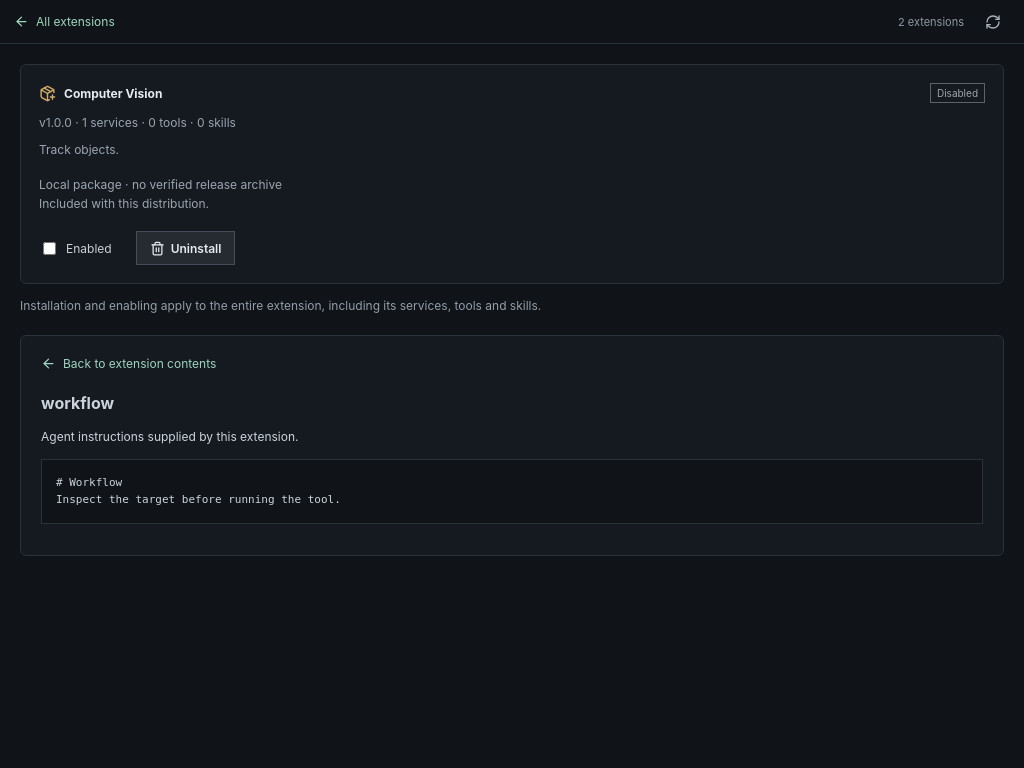
Test: supports direct detail URLs and enabling a disabled extension from skill details
Expected: the text "# Workflow Inspect the target before running the tool." is shown, top-left (41, 459), bottom-right (983, 524)
Click the checkbox named "Enable Computer Vision" at point(50, 248), box top-left (43, 242), bottom-right (56, 254)
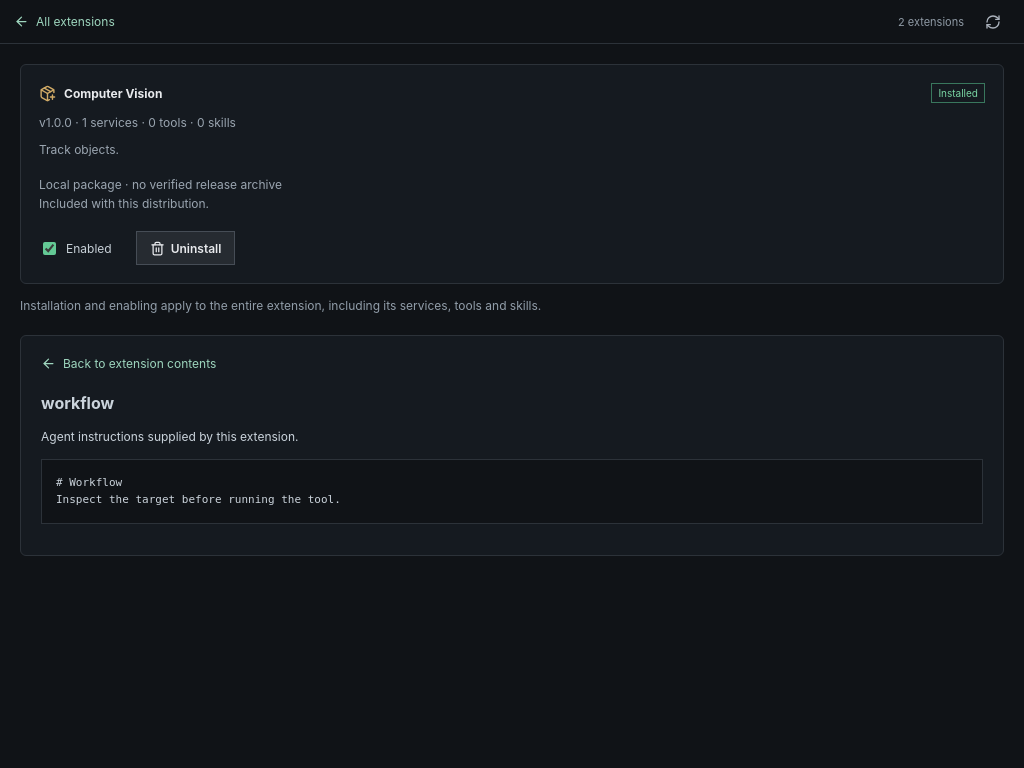
Expected: the element named "skill details" is shown, top-left (20, 335), bottom-right (1004, 556)
Expected: the text "installed" is shown, top-left (931, 83), bottom-right (985, 103)
